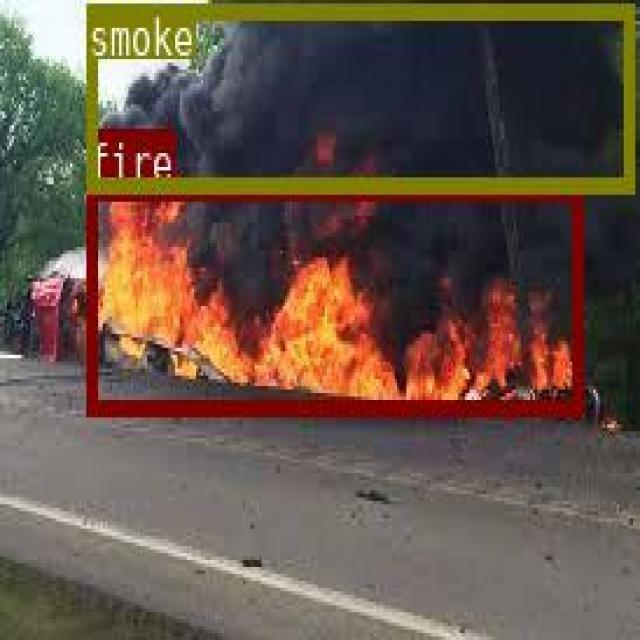fire: (86, 183, 581, 414)
smoke: (85, 2, 633, 190)
